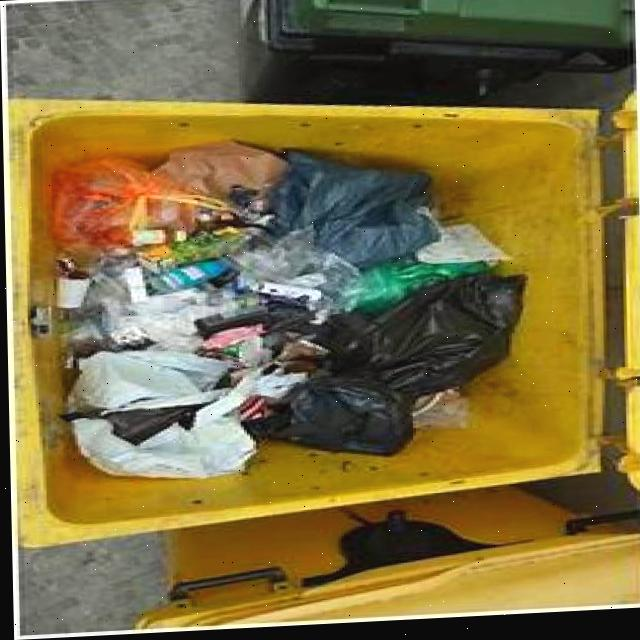Garbage: (13, 100, 602, 545)
Mask: (72, 416, 253, 478)
Plastic_Bag: (267, 280, 521, 458), (268, 155, 439, 269), (53, 157, 172, 249), (155, 143, 288, 201), (196, 299, 315, 337)
